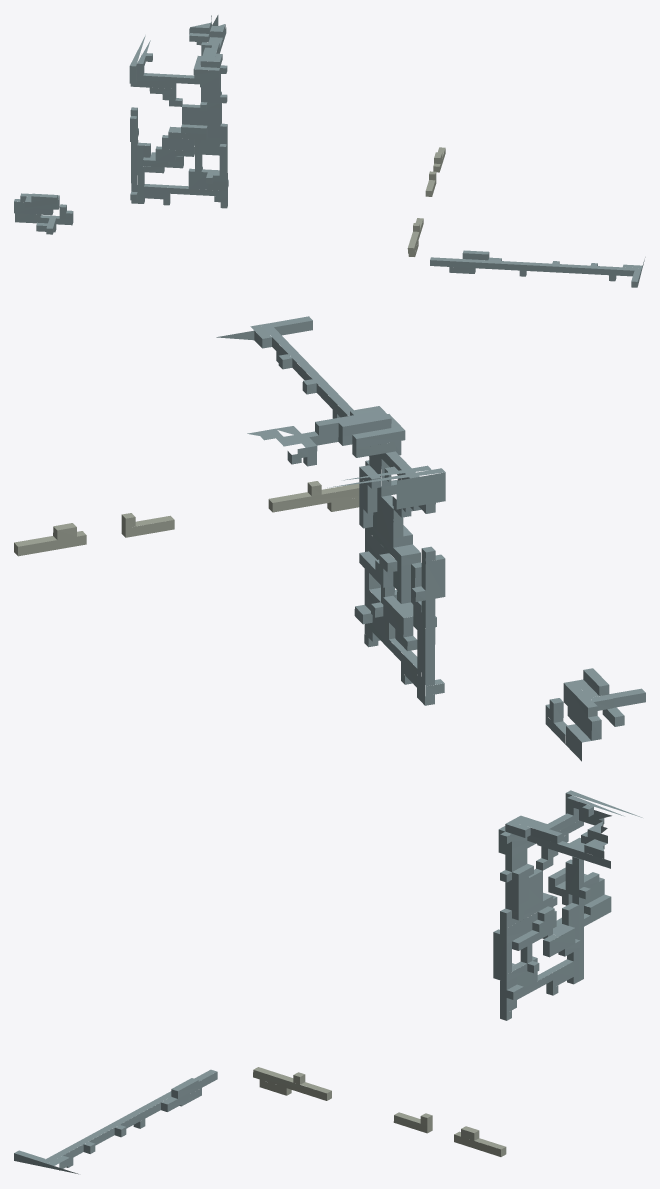
3 views of the same model, one above another, from view 1: azimuth 30°, elevation 25°; view 2: azimuth 150°, elevation 25°; view 3: azimuth 270°, elevation 25° (orthographic). The views are drawn at different scales.
Parts seen in each view (by area): view 1: measured-industrial; view 2: measured-industrial; view 3: measured-industrial.
Boxes of the visible parts, x1,y1,x2,y2 form: measured-industrial: [14, 15, 645, 287]; measured-industrial: [14, 316, 645, 761]; measured-industrial: [14, 790, 642, 1174].
Bounding box in the file's own units: 77.88 × 27.91 × 74.76.
